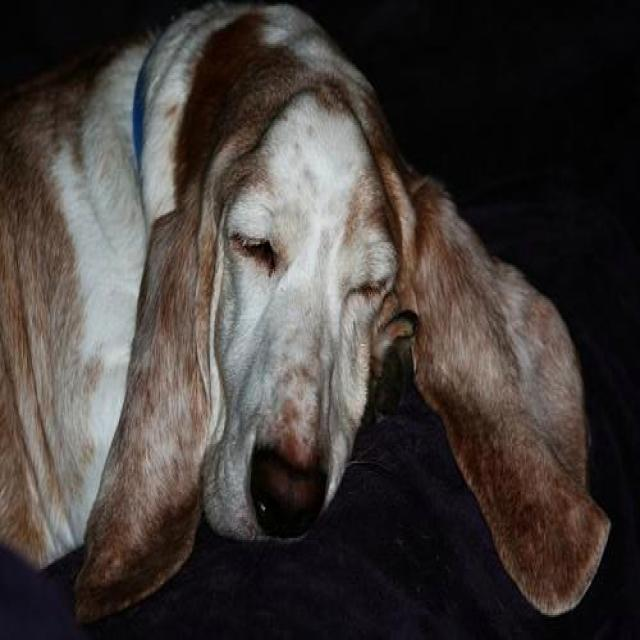basset: (1, 0, 612, 636)
